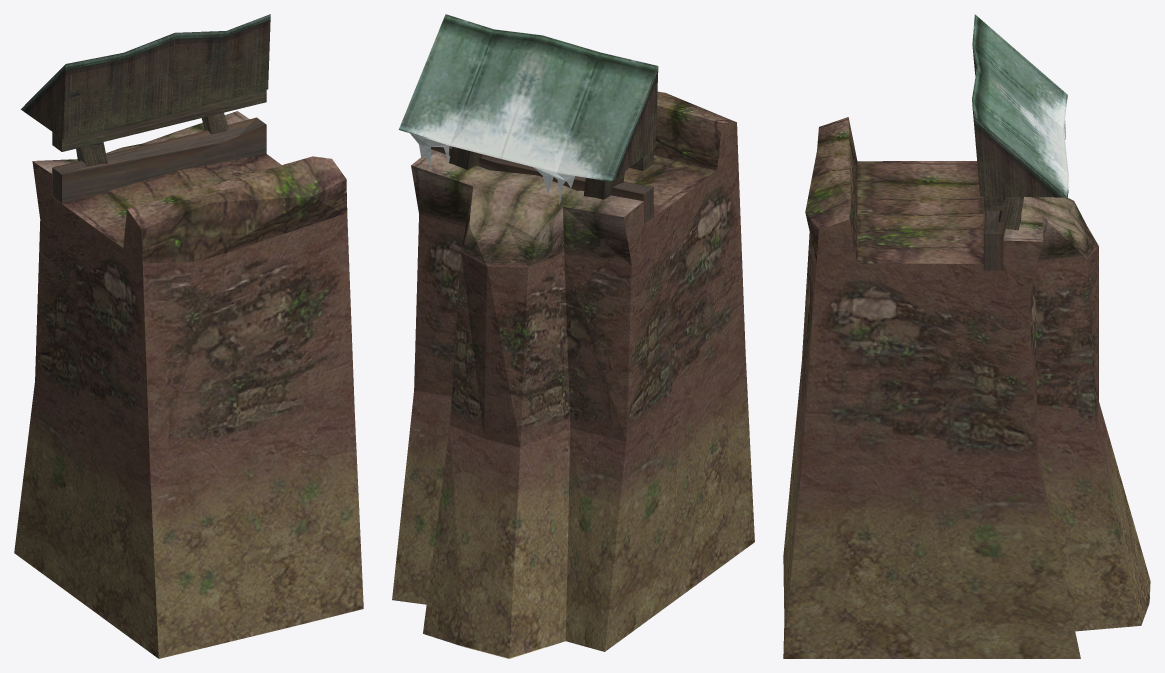
The model's file is C1SMWA5BSNH.obj.
3 renders of one model, left to right at view 1: azimuth 30°, elevation 25°; view 2: azimuth 150°, elevation 25°; view 3: azimuth 270°, elevation 25°, orthographic. The views are drawn at different scales.
Visible parts, largest first — view 1: Node 0; view 2: Node 0; view 3: Node 0.
Boxes of the visible parts, box(x1,y1,x2,y2) form: Node 0: box(14, 14, 363, 658); Node 0: box(392, 14, 754, 658); Node 0: box(783, 14, 1150, 658).
Bounding box in the file's own units: 5 × 12.38 × 7.54.
4 materials, 4 textured.
